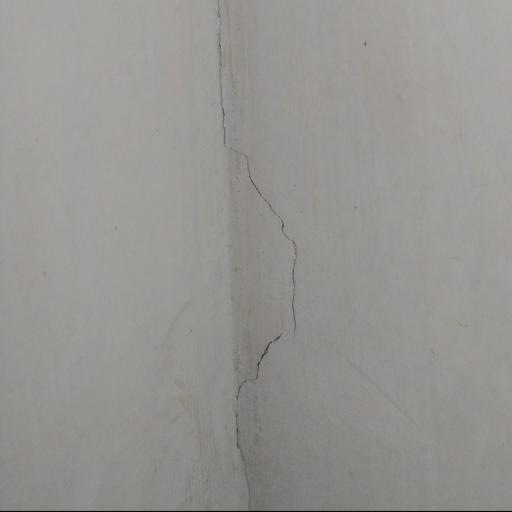minor_crack: (212, 21, 335, 471)
